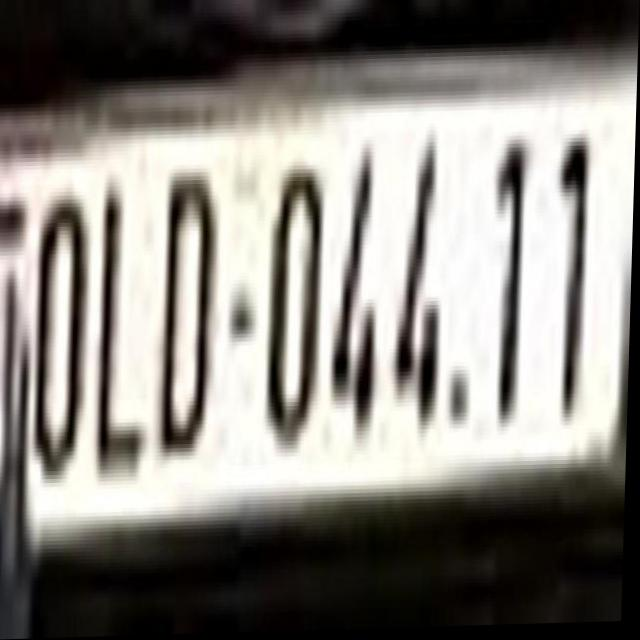0: (260, 135, 327, 448), (29, 192, 91, 480)
1: (545, 95, 597, 453), (495, 123, 533, 427)
4: (327, 146, 388, 450), (397, 144, 452, 445)
D: (159, 169, 218, 458)
L: (93, 183, 161, 498)
